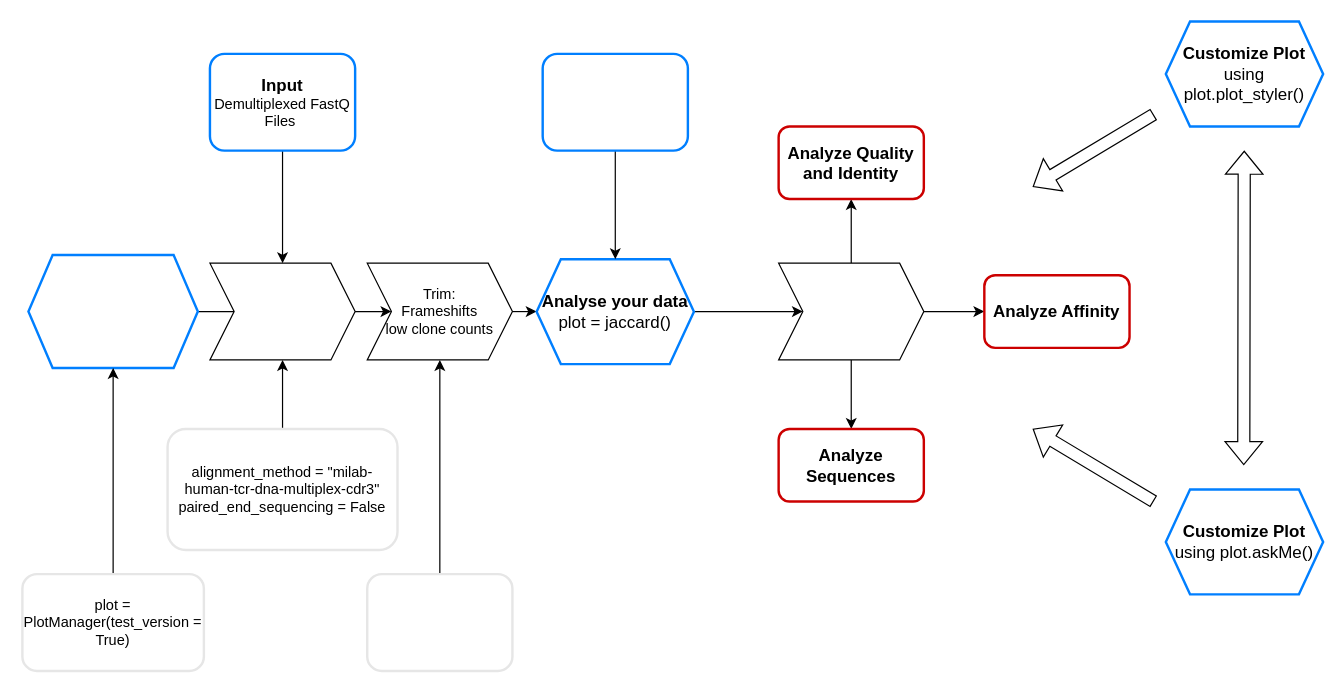
The diagram is 1344 pixels wide and 693 high, and some of its shapes have lost their labels. The shapes that lost their labels are listed below. From the top down, each one's box as (x1, y1, x2, y2) in pixels, then its label:
(541, 52, 688, 151): Input Plot specific help(plot.jaccard) prints them
(27, 253, 198, 369): Call Plot Manager plot = PlotManager()
(209, 262, 355, 360): Alignment Assemble CloneCount
(777, 262, 924, 360): Tidy plot specific data
(365, 572, 513, 672): divisible_by = 3 min_count = 3
